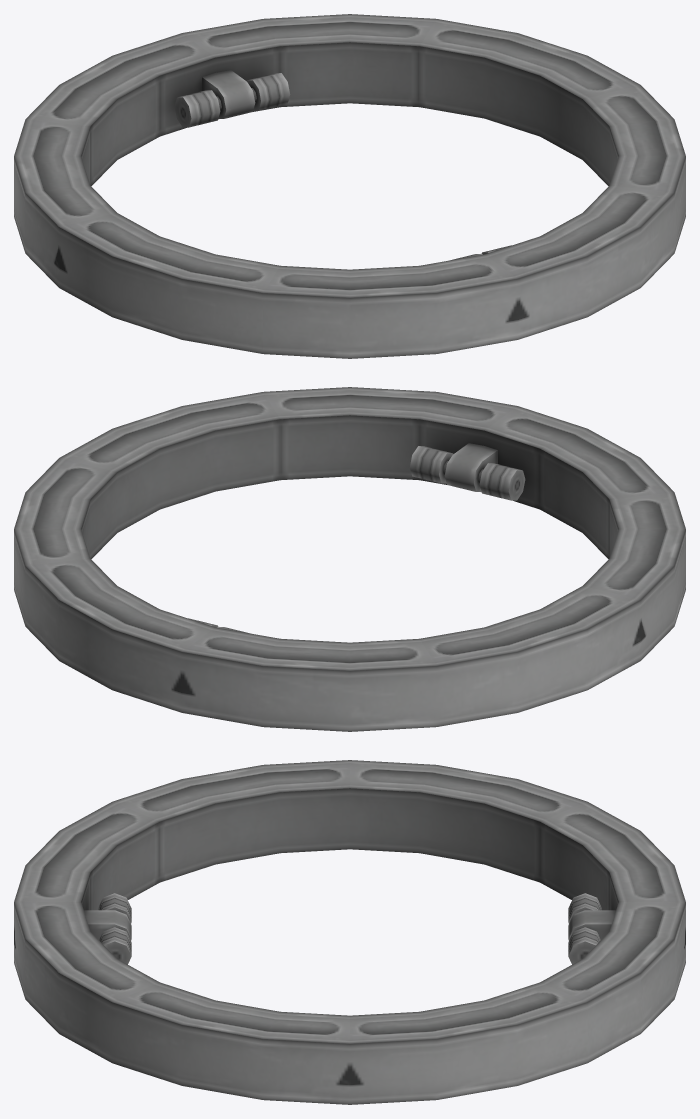
Rendered from castor_decoupler_s1_1.obj.
3 renders of one model, top to bottom at view 1: azimuth 30°, elevation 25°; view 2: azimuth 150°, elevation 25°; view 3: azimuth 270°, elevation 25°, orthographic.
Parts seen in each view (by area): view 1: castor_decoupler_s1_1; view 2: castor_decoupler_s1_1; view 3: castor_decoupler_s1_1.
Boxes of the visible parts, x1,y1,x2,y2 form: castor_decoupler_s1_1: (14,14,685,358); castor_decoupler_s1_1: (14,387,685,731); castor_decoupler_s1_1: (14,760,685,1104).
Size of the model in its own units: 1.25 by 0.125 by 1.25.
